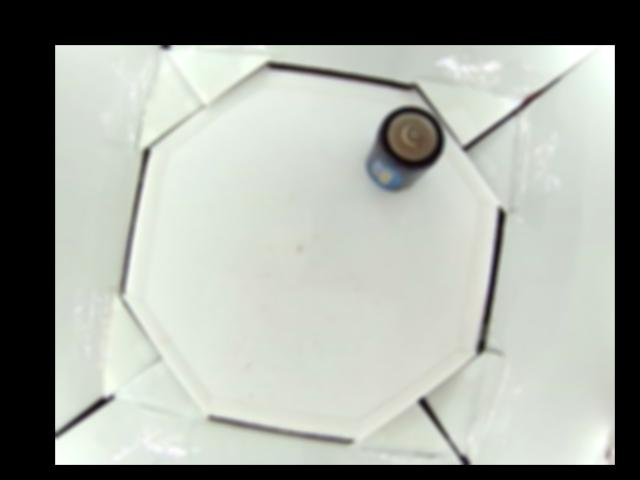Battery: (365, 105, 446, 191)
